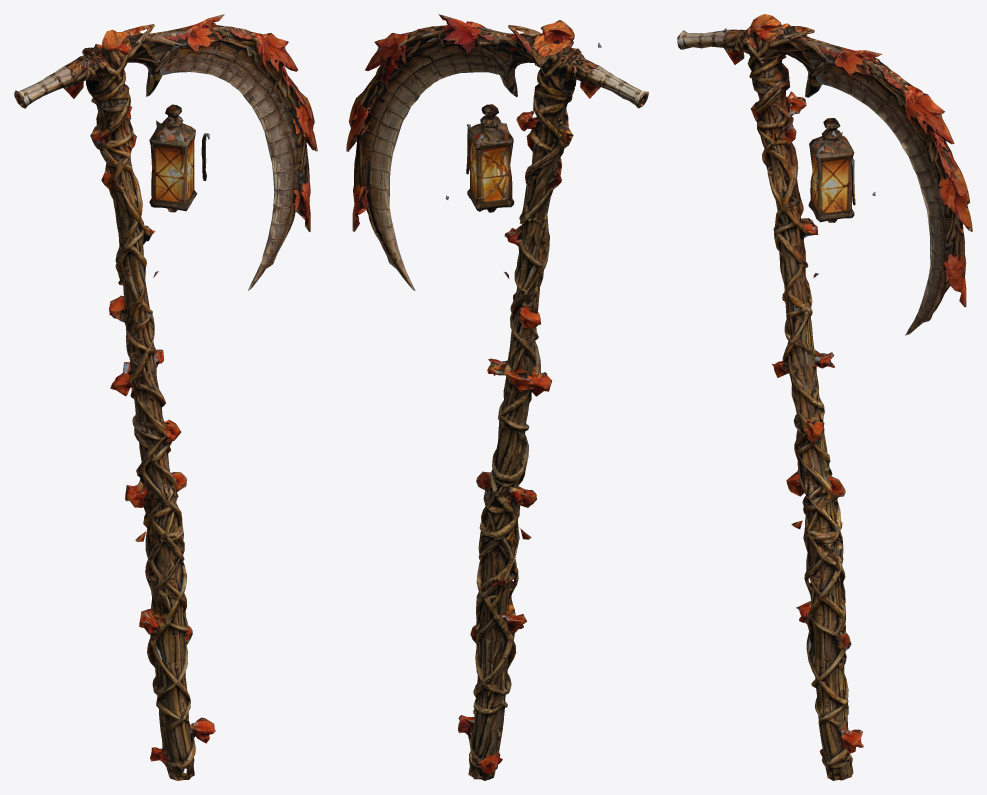
The model's file is Scythe.fbx.
3 views of the same model, side by side, from view 1: azimuth 30°, elevation 25°; view 2: azimuth 150°, elevation 25°; view 3: azimuth 330°, elevation 25° (orthographic). The views are drawn at different scales.
Visible parts, largest first — view 1: texture_mapping; view 2: texture_mapping; view 3: texture_mapping.
Part boxes in pixels (x1=…): texture_mapping: x1=14, y1=14, x2=317, y2=780; texture_mapping: x1=346, y1=14, x2=648, y2=780; texture_mapping: x1=677, y1=14, x2=972, y2=780.
Bounding box in the file's own units: 0.407 × 0.0772 × 0.9931.
Materials: 1 (1 with a texture image).
